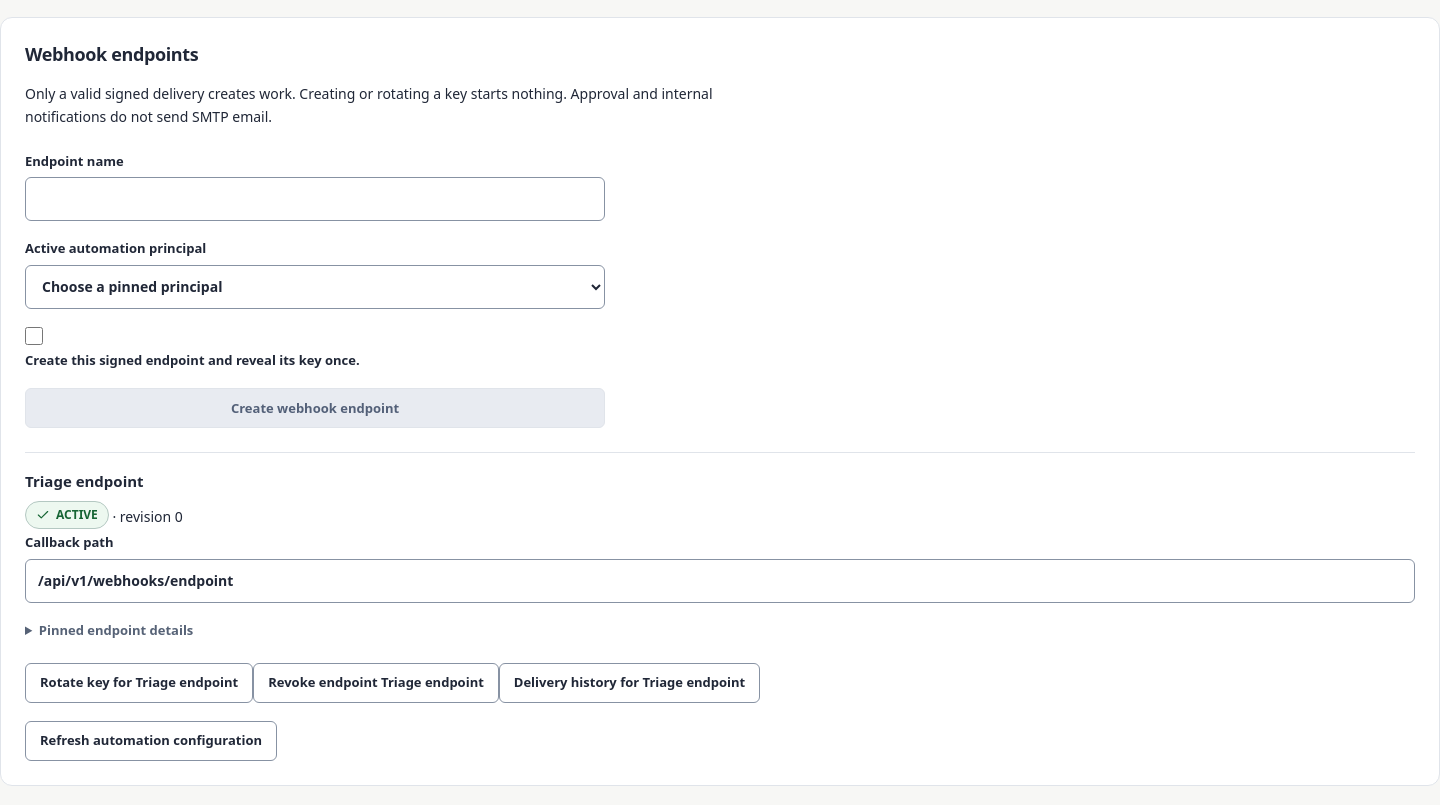
Test case: confirms rotation against the persisted revision and shows a new one-time key
(page scrolled)
Expected: the heading "Triage endpoint" is shown, [25,472,144,492]
Click the button "Rotate key for Triage endpoint". click: (139, 683)
box: [25,663,253,703]
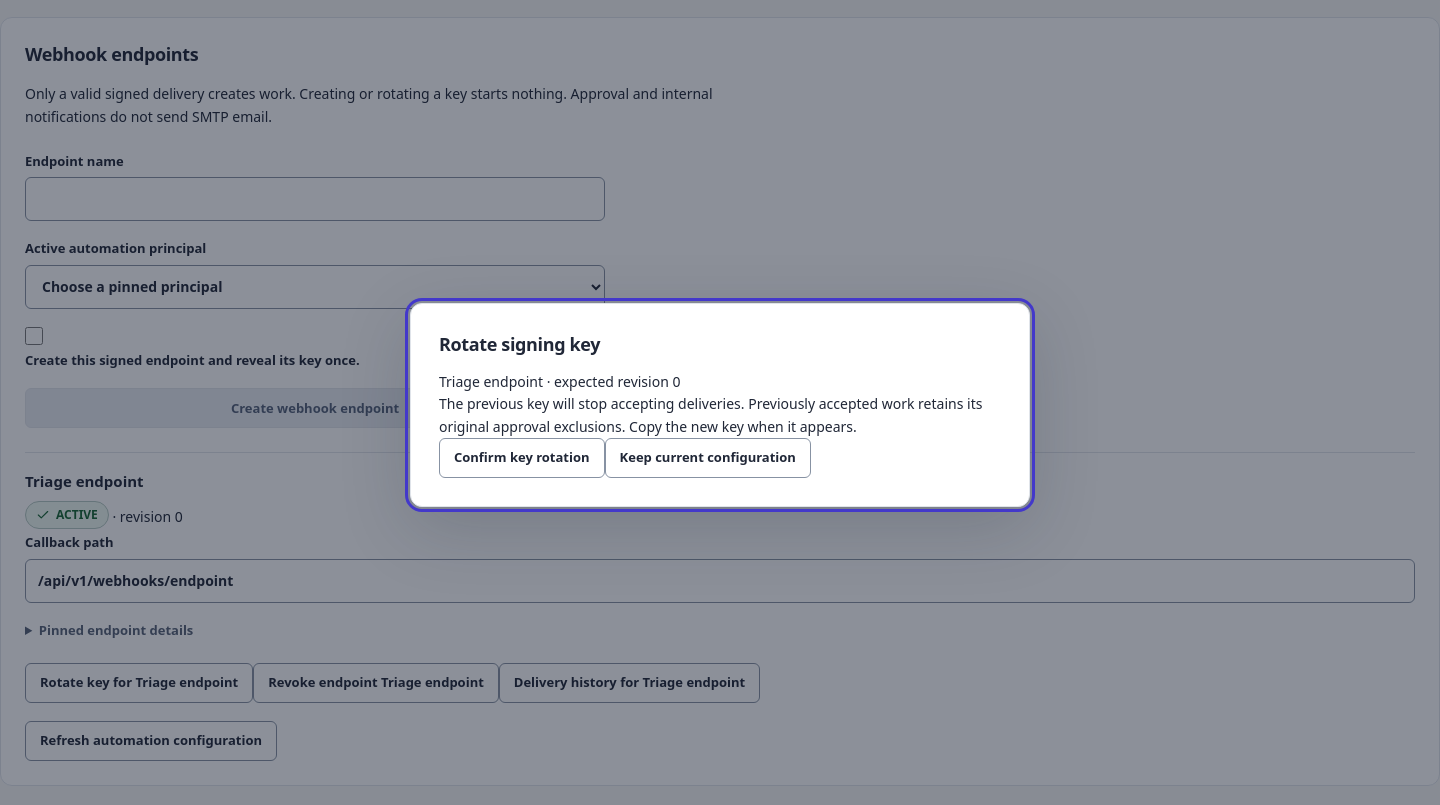
Click the button "Confirm key rotation". click: (522, 458)
box: [439,438,605,478]
(page scrolled)
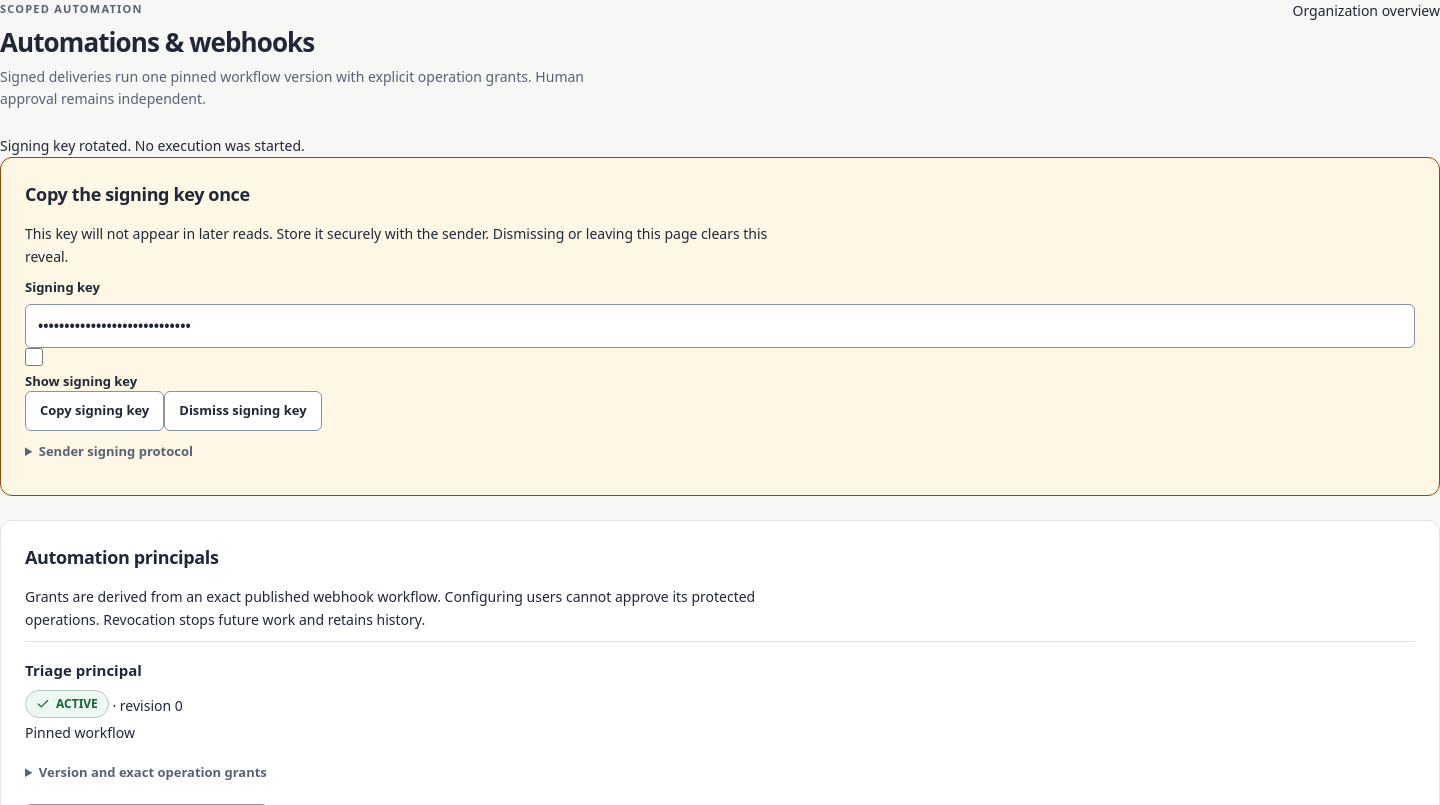
Expected: the password field labelled "Signing key" is shown, [25,304,1415,348]
